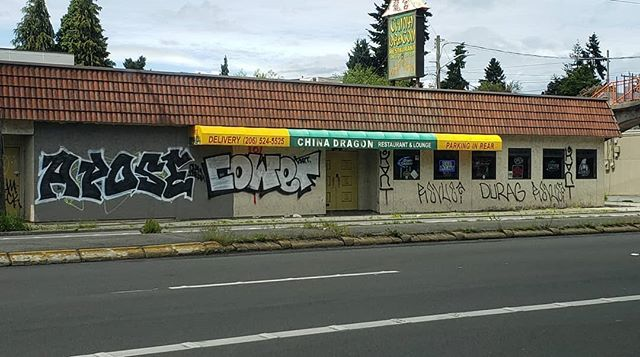building: (1, 65, 607, 226)
graffiti: (36, 137, 323, 206), (538, 150, 577, 208), (415, 178, 475, 213), (474, 175, 525, 208)
sign: (386, 11, 424, 78)
sky: (117, 1, 640, 64)
street: (1, 225, 640, 357)
tree: (55, 1, 113, 68), (1, 1, 58, 68)
